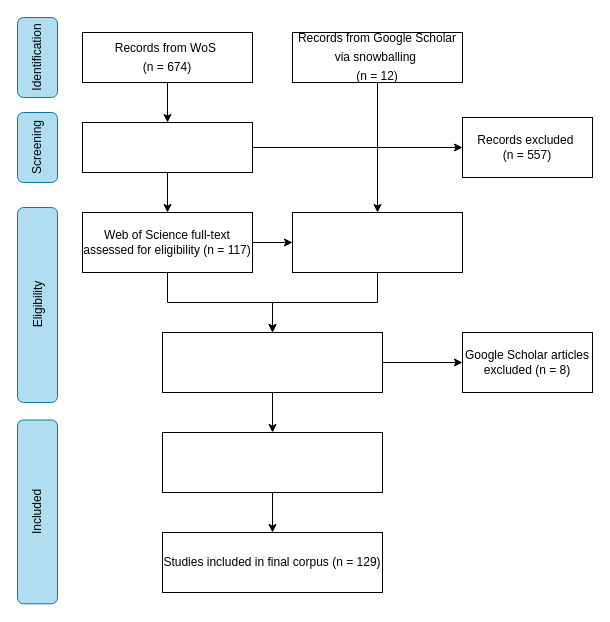
The diagram is 610 pixels wide and 622 high, and some of its shapes have lost their labels. Here are the shapes that lost their labels. From the top down, the centre of each, then its label:
(x=167, y=147): Web of Science records screened (title and abstract) (n = 674)
(x=377, y=242): Google Scholar full-text assessed for eligibility (n = 20)
(x=272, y=362): Total full-text articles assessed for eligibility (n = 137)
(x=272, y=462): All 129 studies read in full by authors + LLM-assisted extraction (gpt-5.4-nano)
